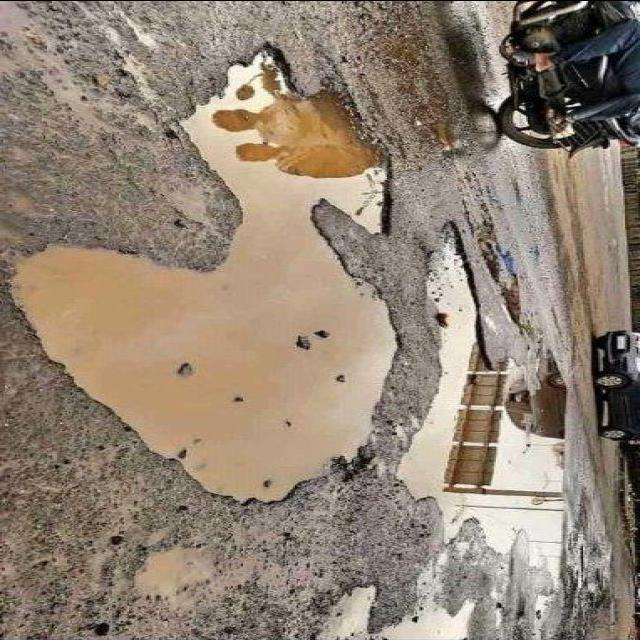lubang: (0, 22, 444, 519), (8, 241, 400, 513), (387, 212, 615, 586), (155, 35, 417, 237), (133, 539, 235, 603), (380, 577, 479, 639), (314, 580, 382, 637), (491, 598, 509, 629)
